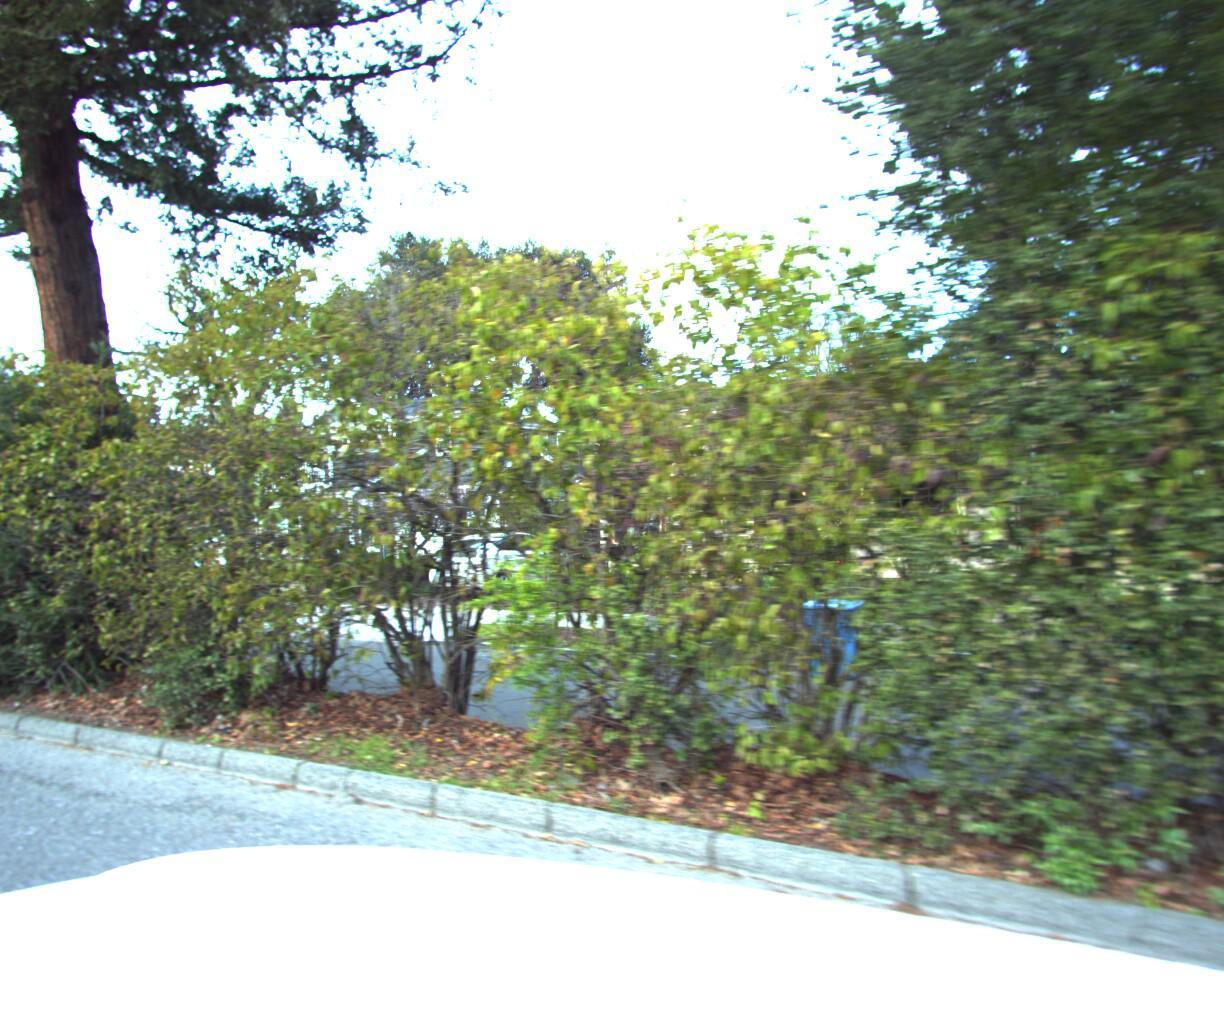car: (410, 523, 577, 601)
